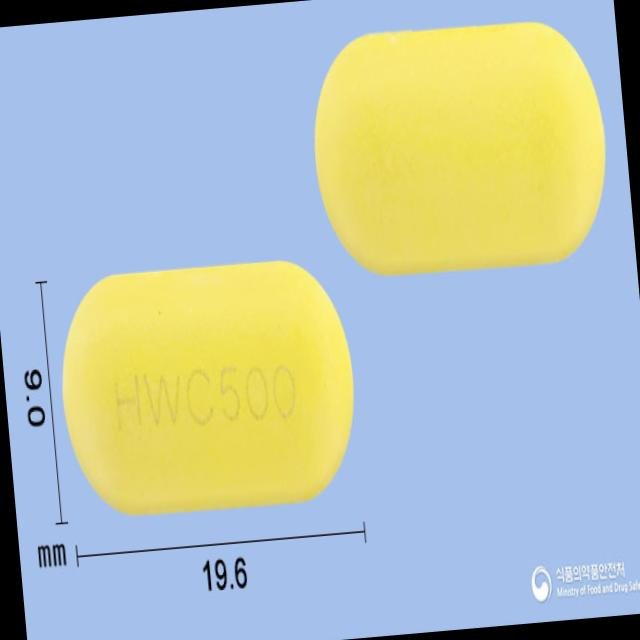Clacid: (48, 242, 371, 533)
